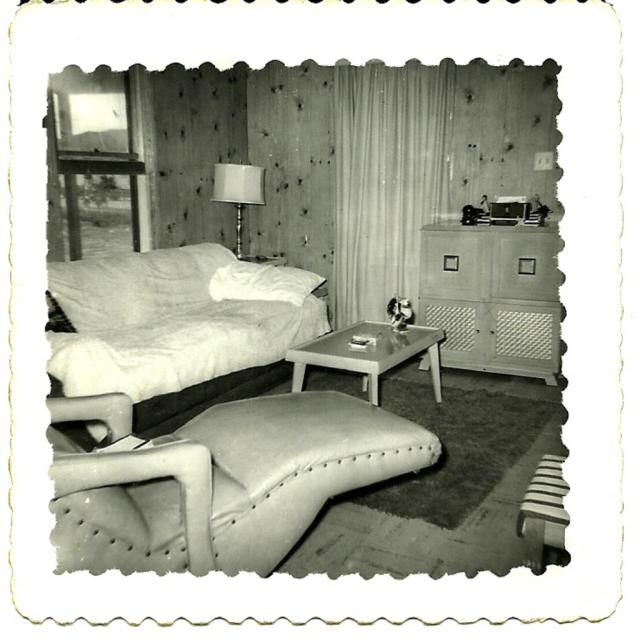desk: (286, 319, 445, 405)
